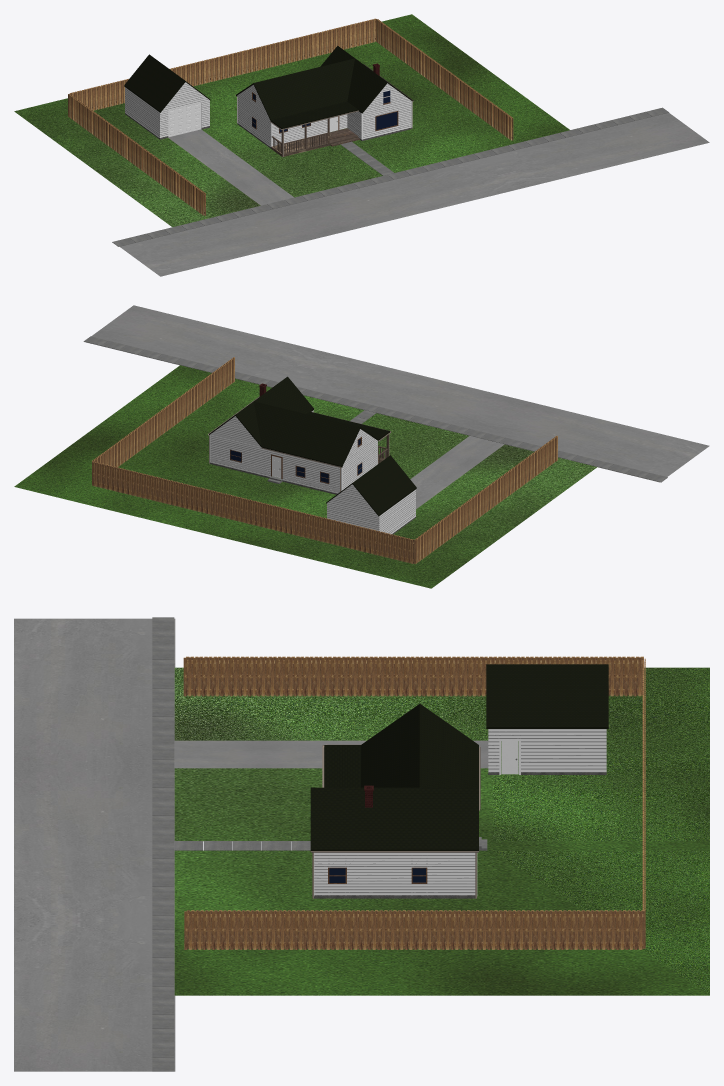
File: house.obj
3 views of the same model, one above another, from view 1: azimuth 30°, elevation 25°; view 2: azimuth 150°, elevation 25°; view 3: azimuth 270°, elevation 25° (orthographic). The views are drawn at different scales.
Parts seen in each view (by area): view 1: grass_Plane, road_Plane.004, house_roof_Cube.004, backfence_Cube.009, house_main_Cube.014, sidewalk_Plane.003, rightfence_Cube.006, leftfence_Cube.010, Plane.001, garage_Cube.002, garage_roof_Cube.001, house_porchfloor_Cube.012 (+1 smaller); view 2: grass_Plane, road_Plane.004, backfence_Cube.009, house_roof_Cube.004, house_main_Cube.014, sidewalk_Plane.003, leftfence_Cube.010, rightfence_Cube.006, Plane.001, garage_Cube.002, garage_roof_Cube.001; view 3: grass_Plane, road_Plane.004, house_roof_Cube.004, rightfence_Cube.006, leftfence_Cube.010, sidewalk_Plane.003, garage_roof_Cube.001, house_main_Cube.014, garage_Cube.002, Plane.001, house_sidewalk_Plane.002, backfence_Cube.009 (+1 smaller).
Boxes of the visible parts, x1,y1,x2,y2 form: grass_Plane: [14, 14, 569, 227]; road_Plane.004: [120, 113, 709, 276]; house_roof_Cube.004: [236, 46, 412, 128]; backfence_Cube.009: [69, 18, 375, 110]; house_main_Cube.014: [237, 83, 411, 148]; sidewalk_Plane.003: [112, 107, 668, 246]; rightfence_Cube.006: [375, 19, 513, 140]; leftfence_Cube.010: [68, 94, 205, 215]; Plane.001: [168, 129, 293, 205]; garage_Cube.002: [125, 82, 209, 139]; garage_roof_Cube.001: [124, 54, 210, 112]; house_porchfloor_Cube.012: [271, 128, 359, 156]; grass_Plane: [14, 365, 597, 588]; road_Plane.004: [84, 305, 709, 482]; backfence_Cube.009: [92, 462, 414, 563]; house_roof_Cube.004: [209, 376, 389, 467]; house_main_Cube.014: [210, 411, 377, 494]; sidewalk_Plane.003: [84, 336, 667, 482]; leftfence_Cube.010: [415, 435, 557, 564]; rightfence_Cube.006: [92, 357, 234, 485]; Plane.001: [410, 436, 504, 508]; garage_Cube.002: [327, 484, 415, 534]; garage_roof_Cube.001: [326, 455, 416, 516]; grass_Plane: [174, 667, 709, 995]; road_Plane.004: [14, 618, 175, 1071]; house_roof_Cube.004: [310, 704, 478, 850]; rightfence_Cube.006: [184, 910, 644, 949]; leftfence_Cube.010: [183, 656, 643, 696]; sidewalk_Plane.003: [152, 617, 174, 1071]; garage_roof_Cube.001: [486, 664, 608, 728]; house_main_Cube.014: [314, 852, 475, 898]; garage_Cube.002: [488, 729, 606, 774]; Plane.001: [174, 740, 488, 768]; house_sidewalk_Plane.002: [174, 841, 310, 850]; backfence_Cube.009: [642, 657, 645, 948].
Size of the model in its own units: 41.19 by 4.04 by 26.69.
